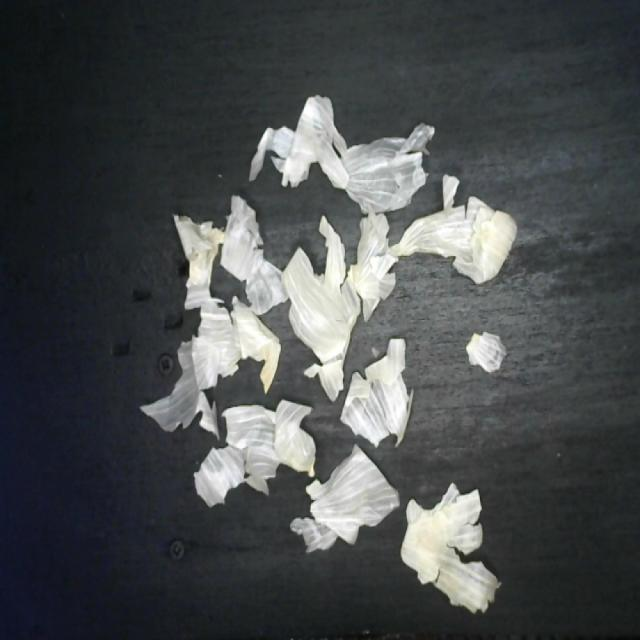biodegradable: (135, 85, 519, 620)
